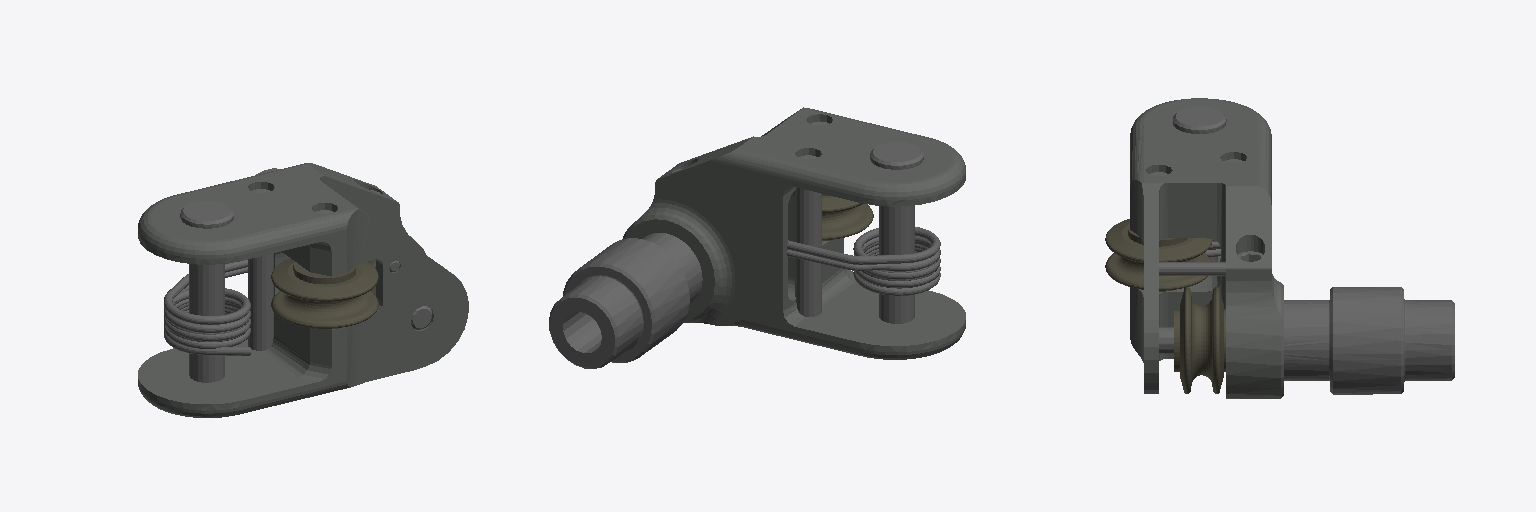
File: th_proximal.obj
The picture shows the model from 3 angles: view 1: azimuth 30°, elevation 25°; view 2: azimuth 150°, elevation 25°; view 3: azimuth 270°, elevation 25°; orthographic projection.
Visible parts, largest first — view 1: thumb_proximal_base_SIH_right.029, thumb_proximal_axes_SIH_right.031, thumb_proximal_pulleys_SIH_right.027; view 2: thumb_proximal_base_SIH_right.029, thumb_proximal_axes_SIH_right.031, thumb_proximal_pulleys_SIH_right.027; view 3: thumb_proximal_base_SIH_right.029, thumb_proximal_axes_SIH_right.031, thumb_proximal_pulleys_SIH_right.027.
Boxes of the visible parts, <box> form: thumb_proximal_base_SIH_right.029: <box>138,163,468,417</box>; thumb_proximal_axes_SIH_right.031: <box>164,168,431,382</box>; thumb_proximal_pulleys_SIH_right.027: <box>271,246,418,329</box>; thumb_proximal_base_SIH_right.029: <box>622,107,965,359</box>; thumb_proximal_axes_SIH_right.031: <box>549,121,940,368</box>; thumb_proximal_pulleys_SIH_right.027: <box>822,194,873,240</box>; thumb_proximal_base_SIH_right.029: <box>1130,98,1283,398</box>; thumb_proximal_axes_SIH_right.031: <box>1150,106,1454,394</box>; thumb_proximal_pulleys_SIH_right.027: <box>1105,219,1225,393</box>.
Size of the model in its own units: 38.2 by 23.6 by 38.77.